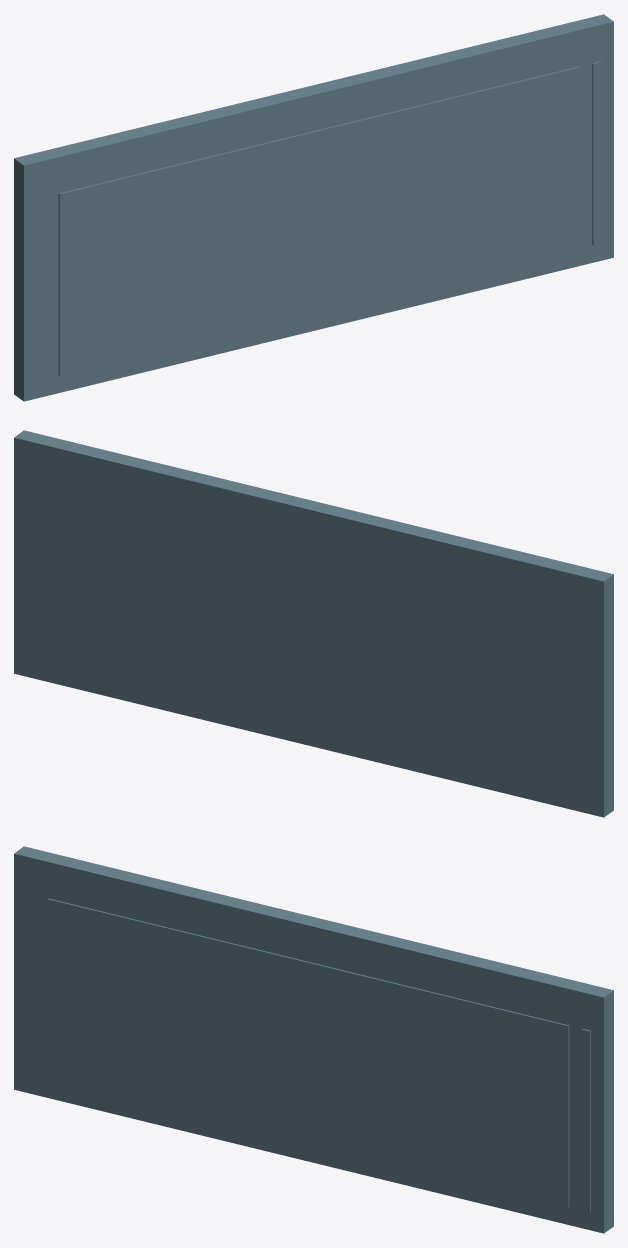
File: SM_Int_CommandBridge_Viewport.fbx
The picture shows the model from 3 angles, top to bottom: view 1: azimuth 30°, elevation 25°; view 2: azimuth 150°, elevation 25°; view 3: azimuth 330°, elevation 25°; orthographic projection.
Parts seen in each view (by area): view 1: SM_Int_CommandBridge_Viewport; view 2: SM_Int_CommandBridge_Viewport; view 3: SM_Int_CommandBridge_Viewport.
Boxes of the visible parts, left/top/right/bottom form: SM_Int_CommandBridge_Viewport: left=14, top=14, right=613, bottom=401; SM_Int_CommandBridge_Viewport: left=14, top=430, right=613, bottom=817; SM_Int_CommandBridge_Viewport: left=14, top=846, right=613, bottom=1233.
Size of the model in its own units: 340 by 11 by 130.
